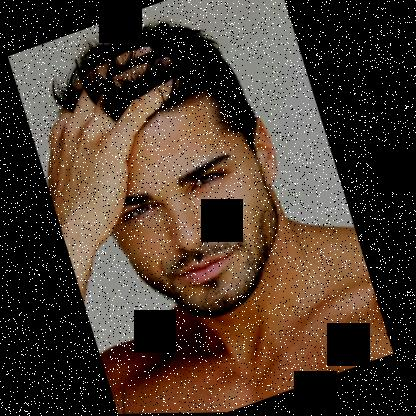Male: (79, 80, 324, 340)
